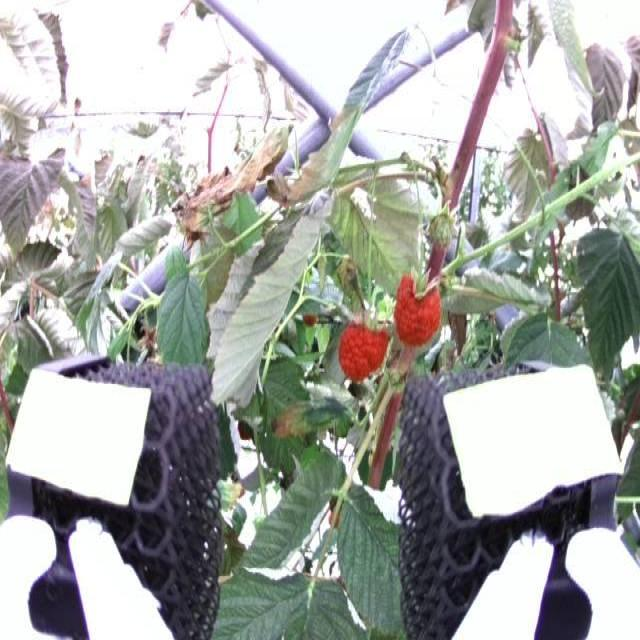Riped berries: (338, 314, 392, 388), (395, 270, 447, 346)
